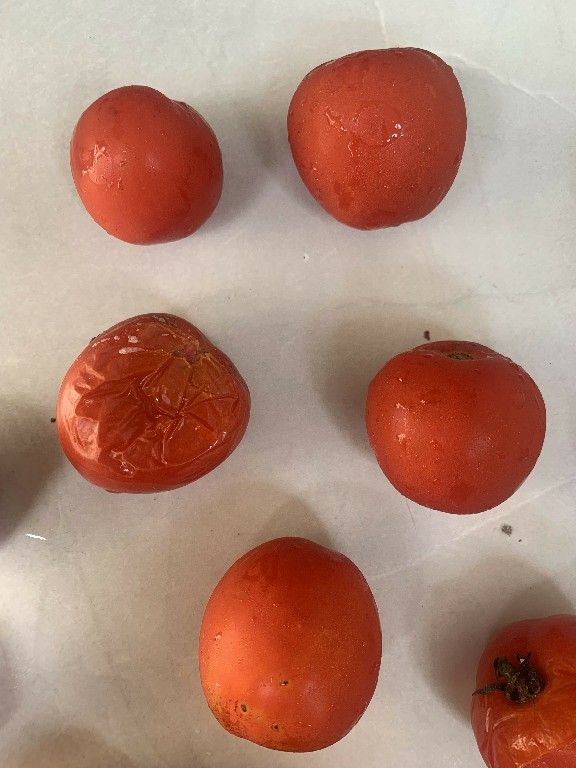NG: (37, 301, 257, 505), (190, 523, 384, 754), (461, 604, 576, 768)
OK: (274, 35, 478, 237), (355, 326, 560, 523), (63, 80, 233, 259)
